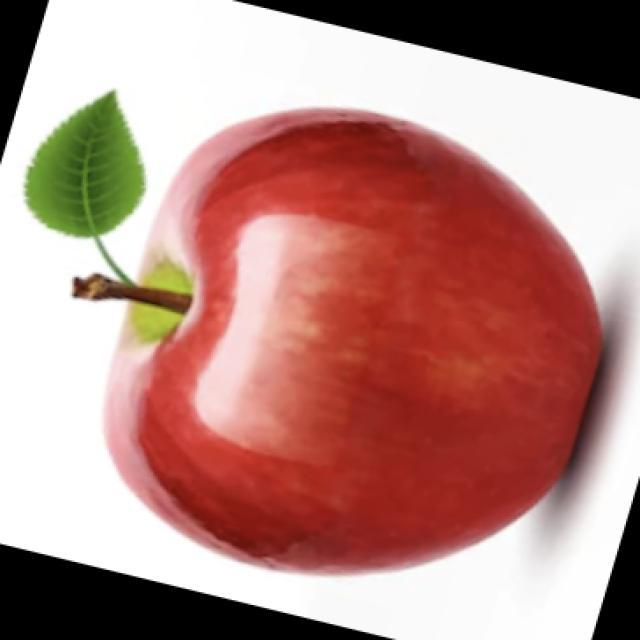Apple: (98, 105, 604, 576)
